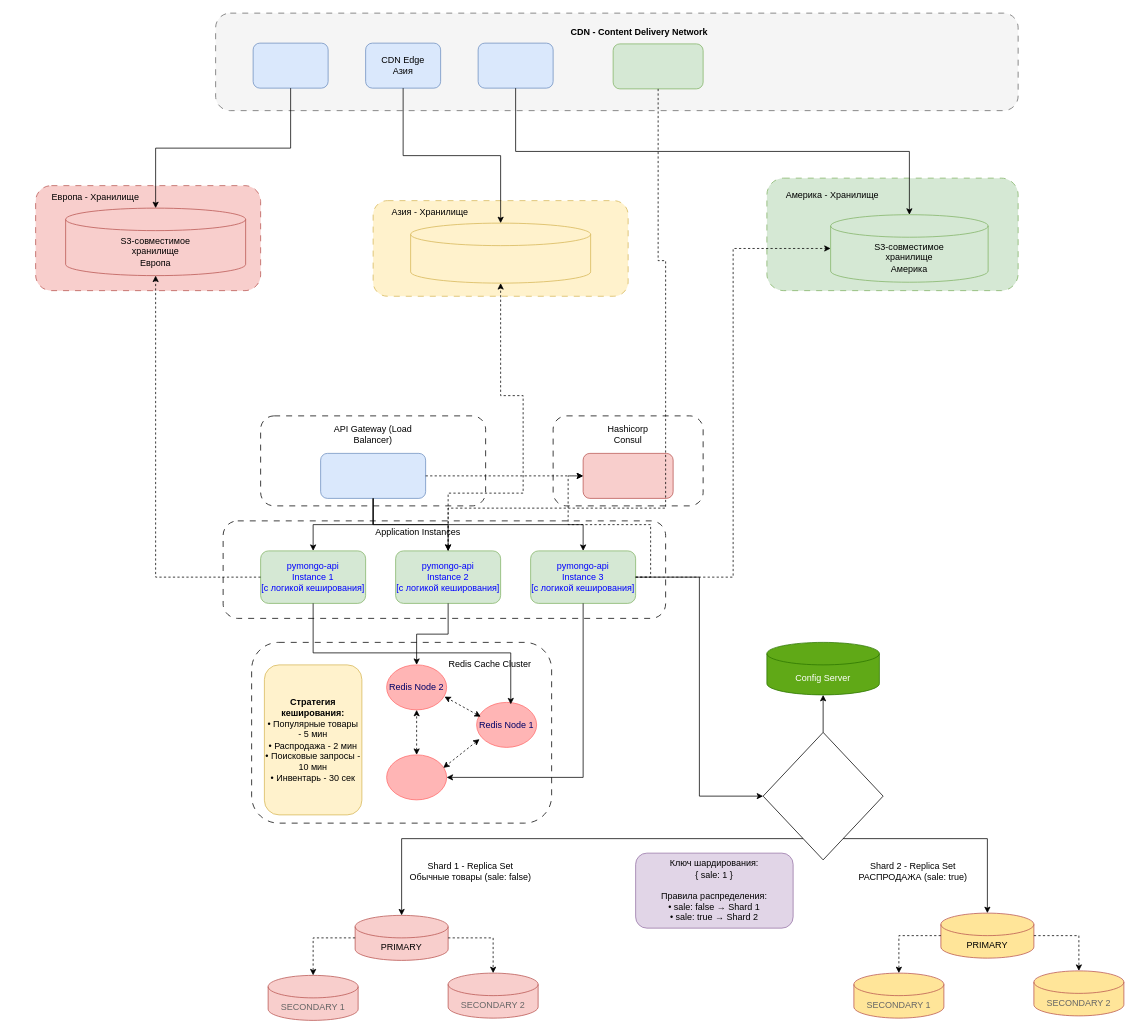
Image size: 1137x1034. Some labels were removed from this diagram. The centre of each missing label's shape, as x and y in pixels:
"API Gateway [Round Robin]" belongs at [373,475].
"CDN Edge Америка" belongs at [515,65].
"CDN Edge Европа" belongs at [290,65].
"CDN Origin Источник" belongs at [657,66].
"Consul [Service Discovery]" belongs at [627,475].
"mongos Router" belongs at [822,796].
"Redis Node 3" belongs at [416,777].
"S3-совместимое хранилище Азия" belongs at [500,252].
